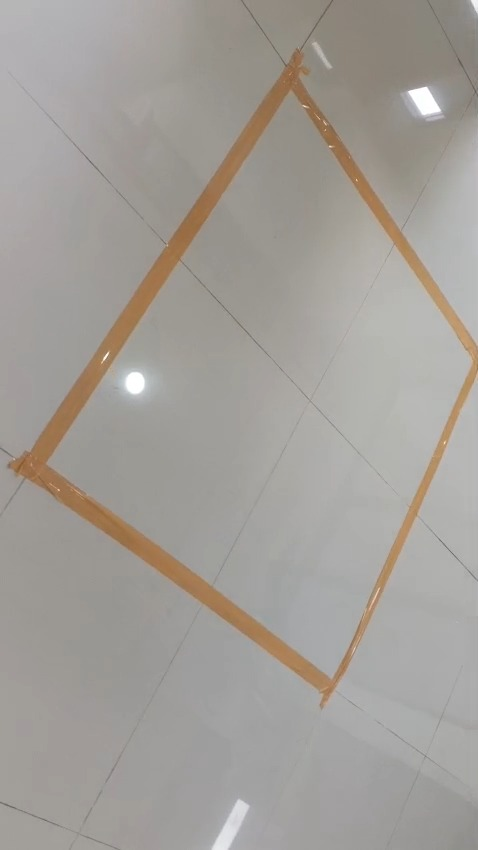floor marking: (10, 51, 477, 706)
